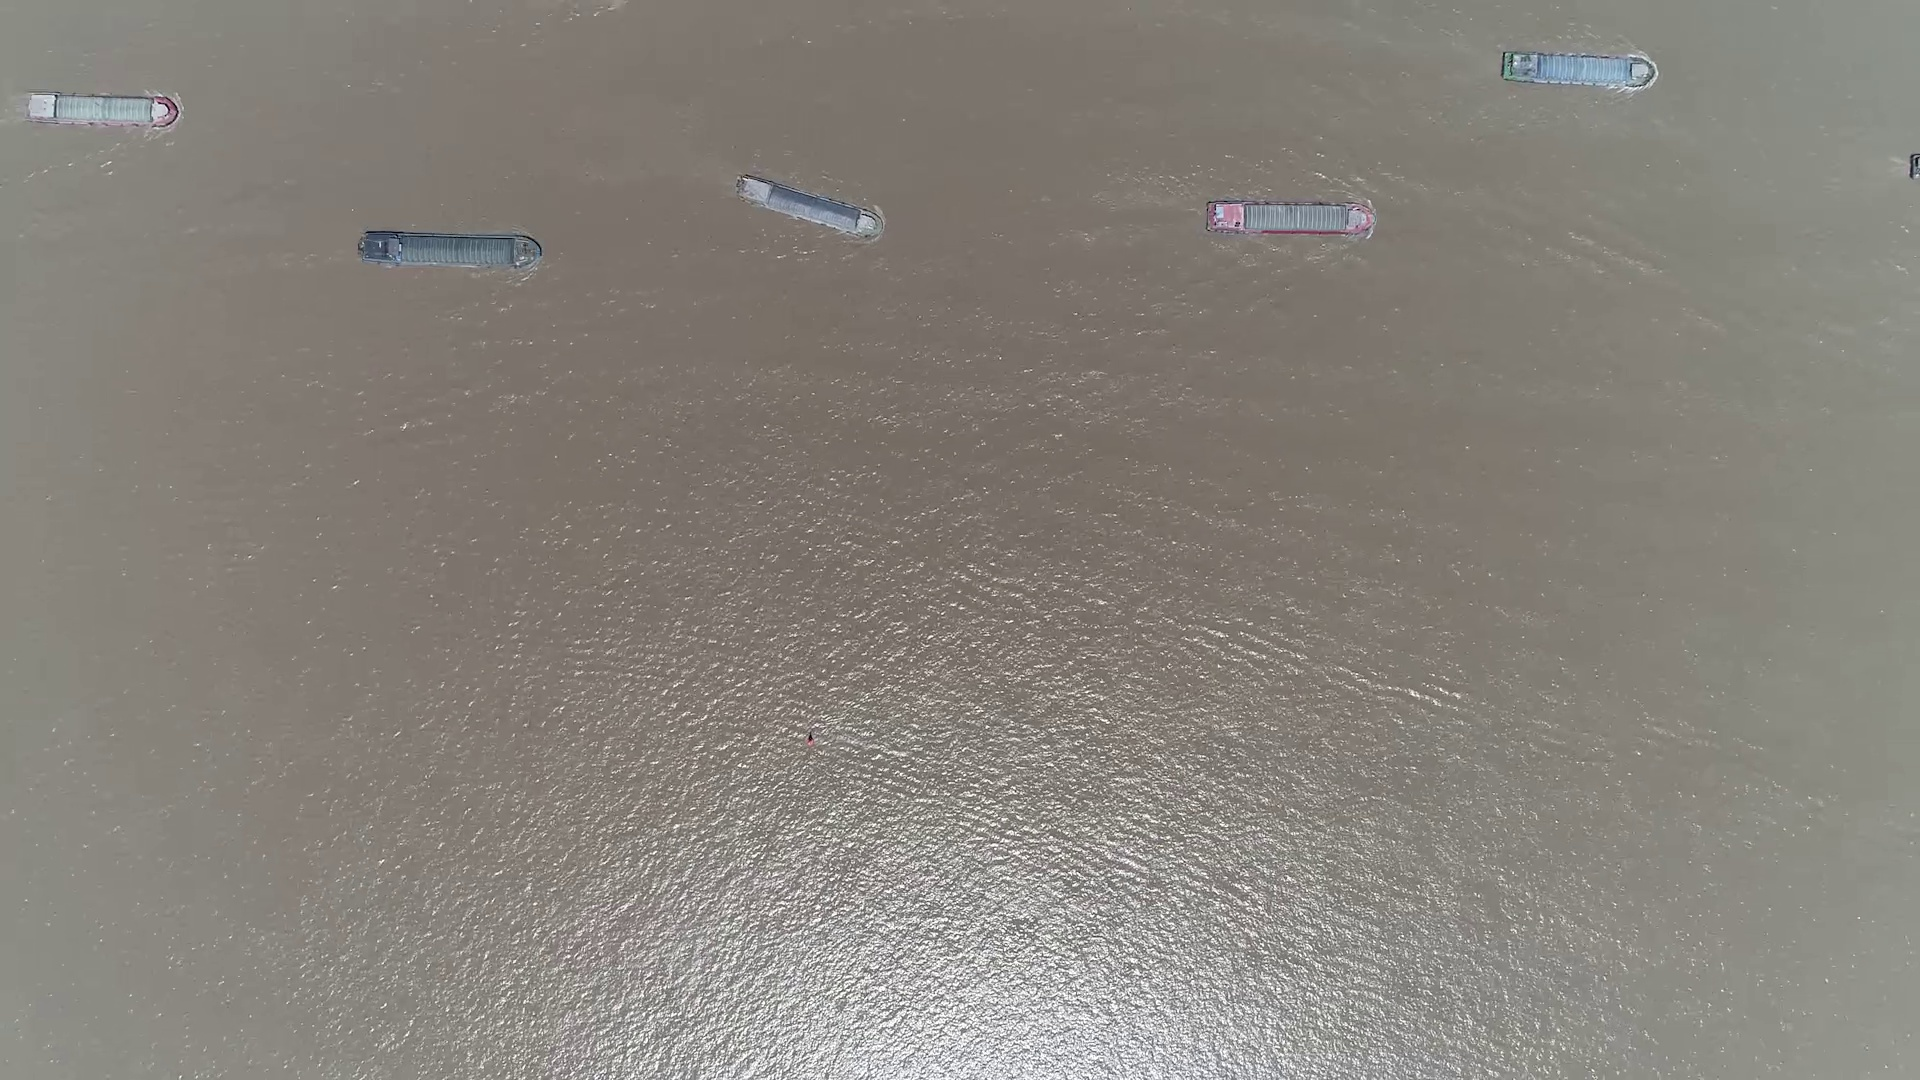ship: (735, 175, 881, 239), (357, 231, 541, 268), (1208, 203, 1374, 237), (1499, 53, 1654, 88), (25, 94, 177, 127)
